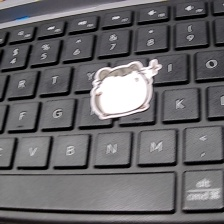mouse: (89, 58, 164, 120)
